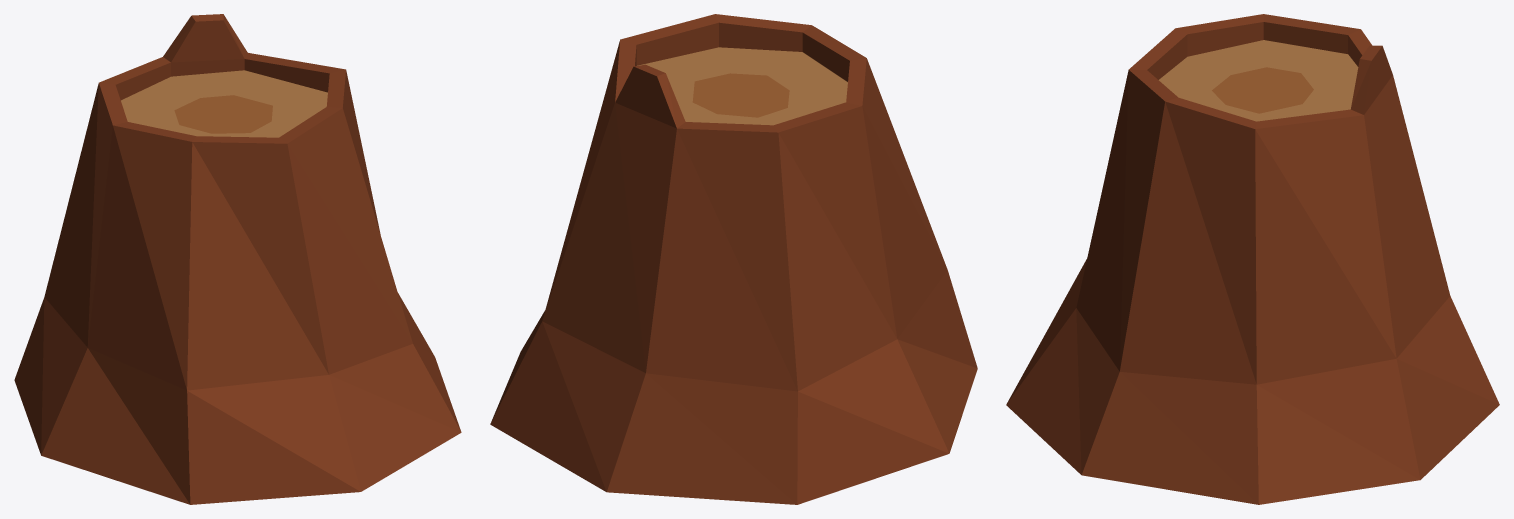
The model's file is Stump_3.fbx.
3 views of the same model, side by side, from view 1: azimuth 30°, elevation 25°; view 2: azimuth 150°, elevation 25°; view 3: azimuth 270°, elevation 25° (orthographic). The views are drawn at different scales.
Parts seen in each view (by area): view 1: Stump.3; view 2: Stump.3; view 3: Stump.3.
Part boxes in pixels (bbox=[...]): Stump.3: bbox=[14, 14, 461, 504]; Stump.3: bbox=[490, 14, 977, 504]; Stump.3: bbox=[1006, 14, 1499, 504].
Size of the model in its own units: 126 by 105 by 129.
